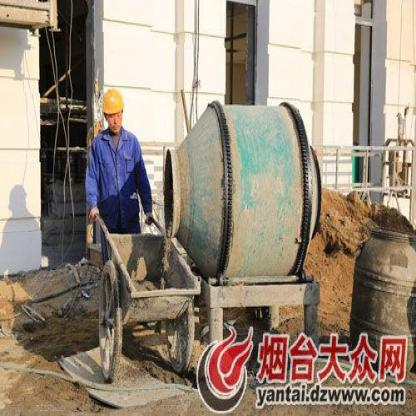helmet: (100, 84, 127, 134)
